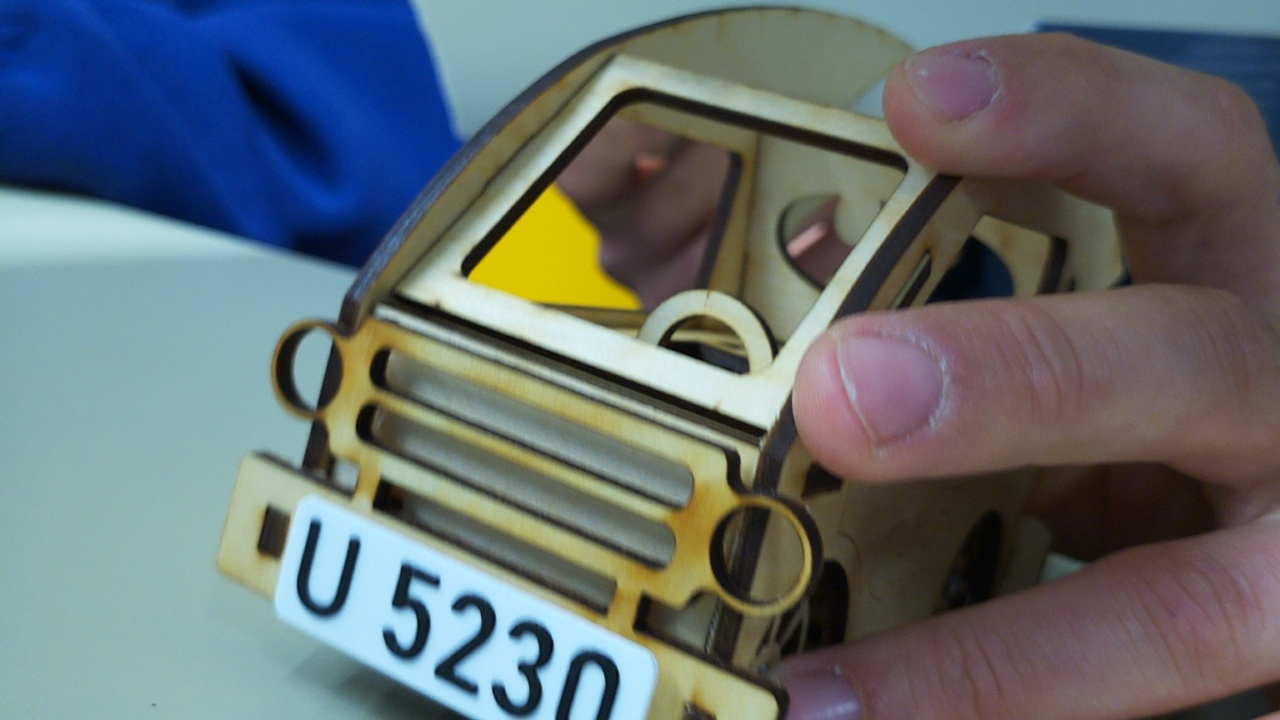license_plate: (273, 490, 659, 720)
